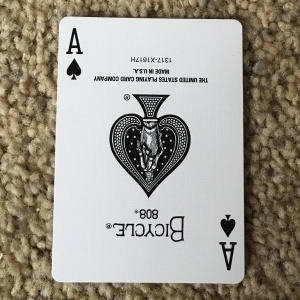card: (52, 15, 247, 285)
